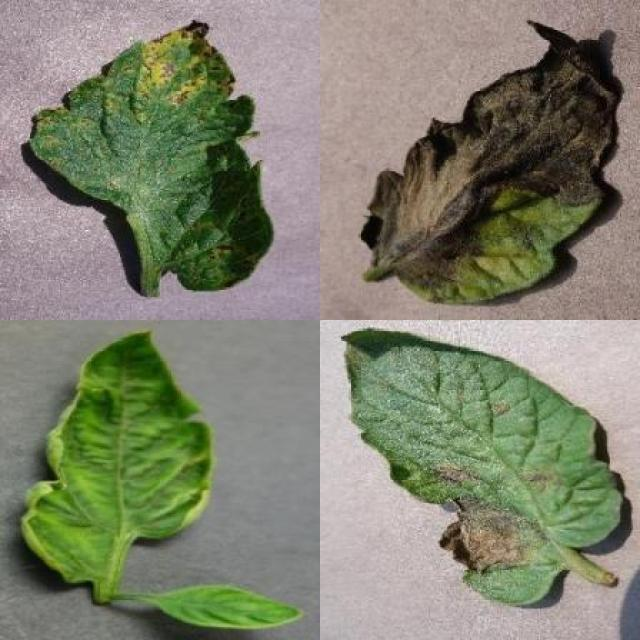Late Blight: (342, 326, 624, 608), (358, 18, 618, 303)
Septoria: (32, 19, 274, 294)
Yellow Leaf Curl Virus: (23, 329, 210, 585), (149, 585, 305, 628)
